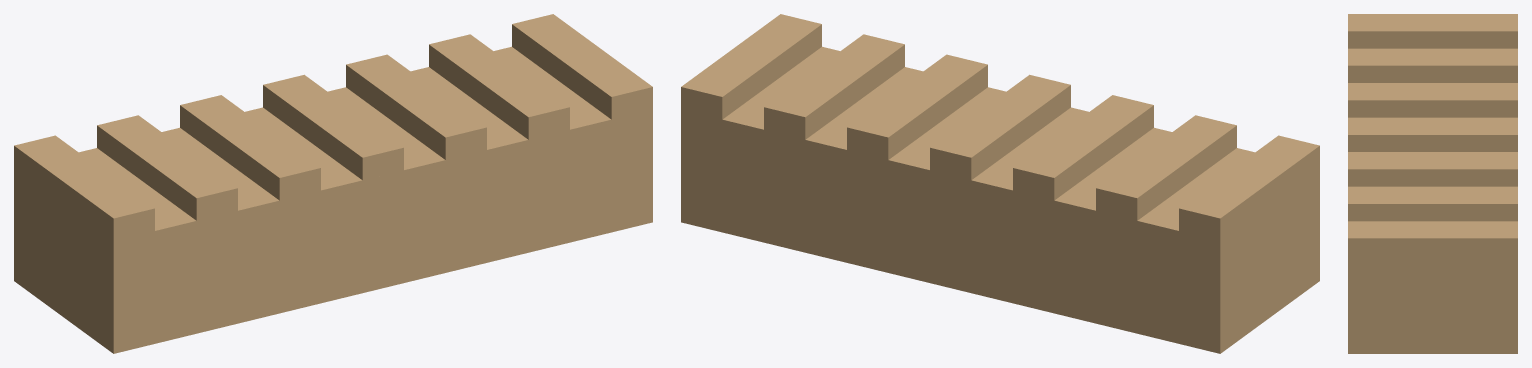
File: prop-keybox-blank.fbx
3 renders of one model, left to right at view 1: azimuth 30°, elevation 25°; view 2: azimuth 150°, elevation 25°; view 3: azimuth 270°, elevation 25°, orthographic. The views are drawn at different scales.
Visible parts, largest first — view 1: prop-keybox-blank; view 2: prop-keybox-blank; view 3: prop-keybox-blank.
Part boxes in pixels (x1,y1,x2,y2): prop-keybox-blank: (14,14,652,353); prop-keybox-blank: (681,14,1319,353); prop-keybox-blank: (1348,14,1517,353).
Bounding box in the file's own units: 25 × 6 × 8.
